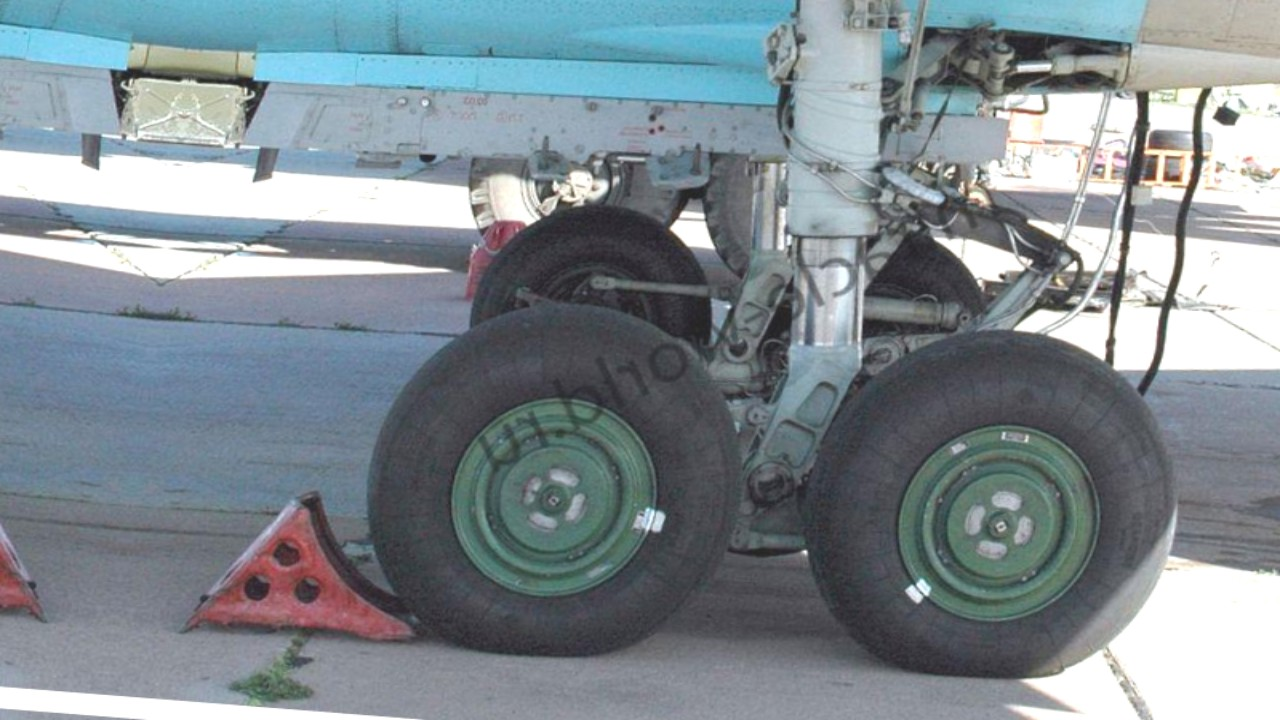chock: (176, 479, 437, 652)
wheel: (342, 285, 761, 673), (780, 312, 1205, 694), (466, 196, 727, 349), (851, 227, 1004, 347)
